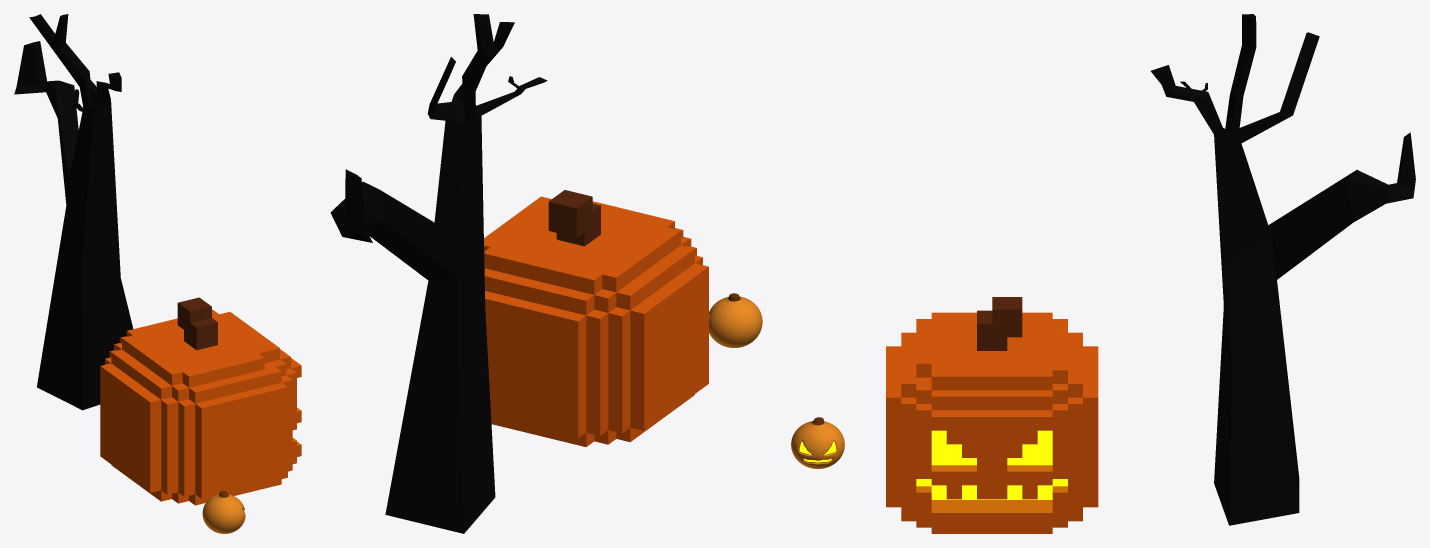
Rendered from Halloween!.fbx.
3 renders of one model, left to right at view 1: azimuth 30°, elevation 25°; view 2: azimuth 150°, elevation 25°; view 3: azimuth 270°, elevation 25°, orthographic. The views are drawn at different scales.
Visible parts, largest first — view 1: Voxel Pumpkin, Tree, Pumpkin; view 2: Voxel Pumpkin, Tree, Pumpkin; view 3: Voxel Pumpkin, Tree, Pumpkin.
Part boxes in pixels (x1,y1,x2,y2): Voxel Pumpkin: (100, 297, 301, 505); Tree: (14, 14, 133, 410); Pumpkin: (202, 491, 245, 533); Voxel Pumpkin: (484, 190, 708, 446); Tree: (330, 14, 547, 533); Pumpkin: (709, 293, 762, 347); Voxel Pumpkin: (886, 297, 1098, 533); Tree: (1151, 14, 1415, 525); Pumpkin: (791, 417, 844, 468).
Size of the model in its own units: 1400 by 3400 by 4125.
